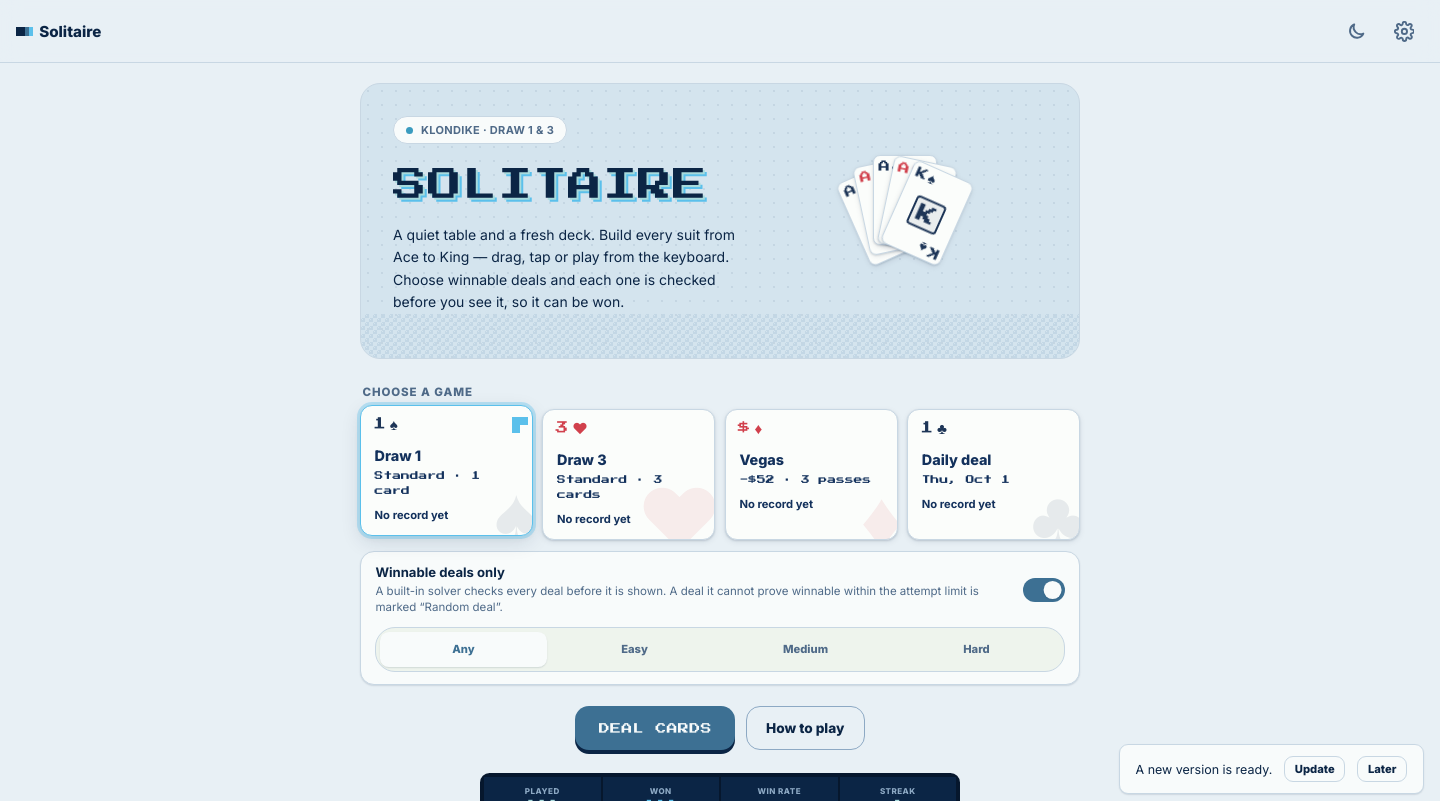
Test: application lifecycle wiring › PWA gateways › does not raise the update notice again for the session once Later was chosen
Click the button "Later" at (1382, 769), box left=1357, top=756, right=1407, bottom=782
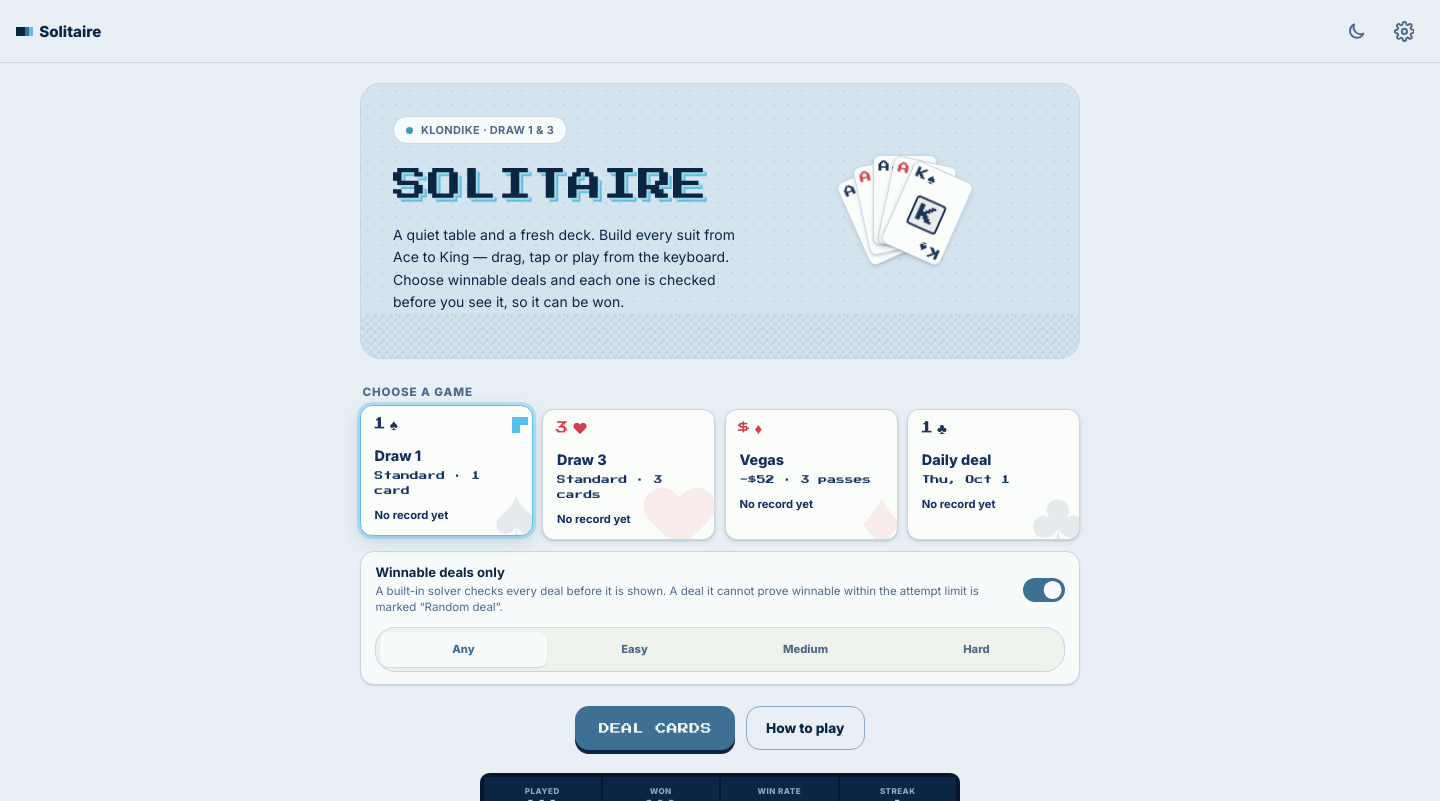
Result: the button "Update" is gone
